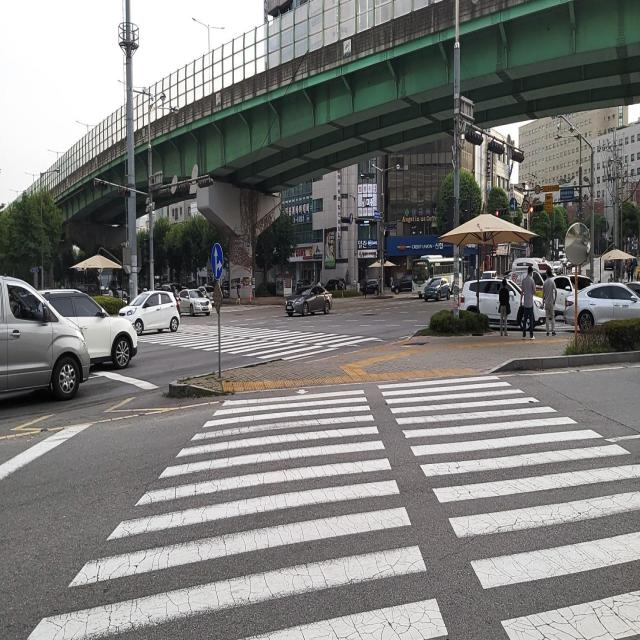횡단보도: (22, 377, 640, 639), (127, 319, 384, 365)
